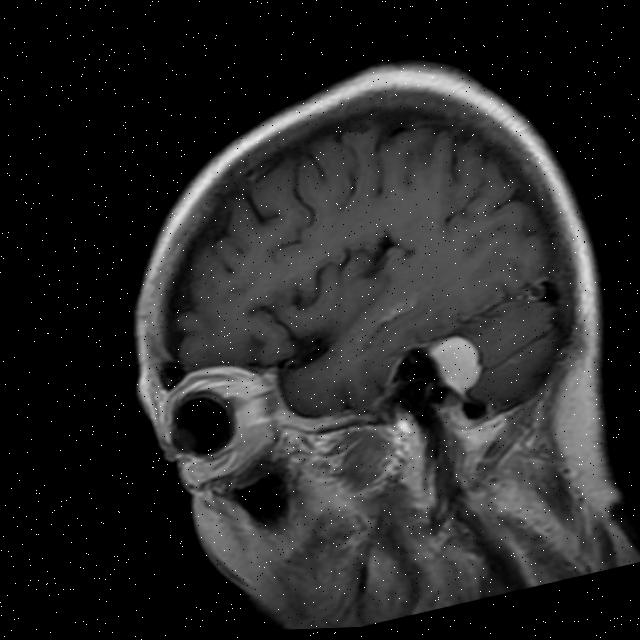Meningioma: (426, 328, 492, 403)
